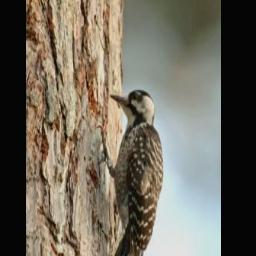Woodpecker: (95, 83, 165, 256)
